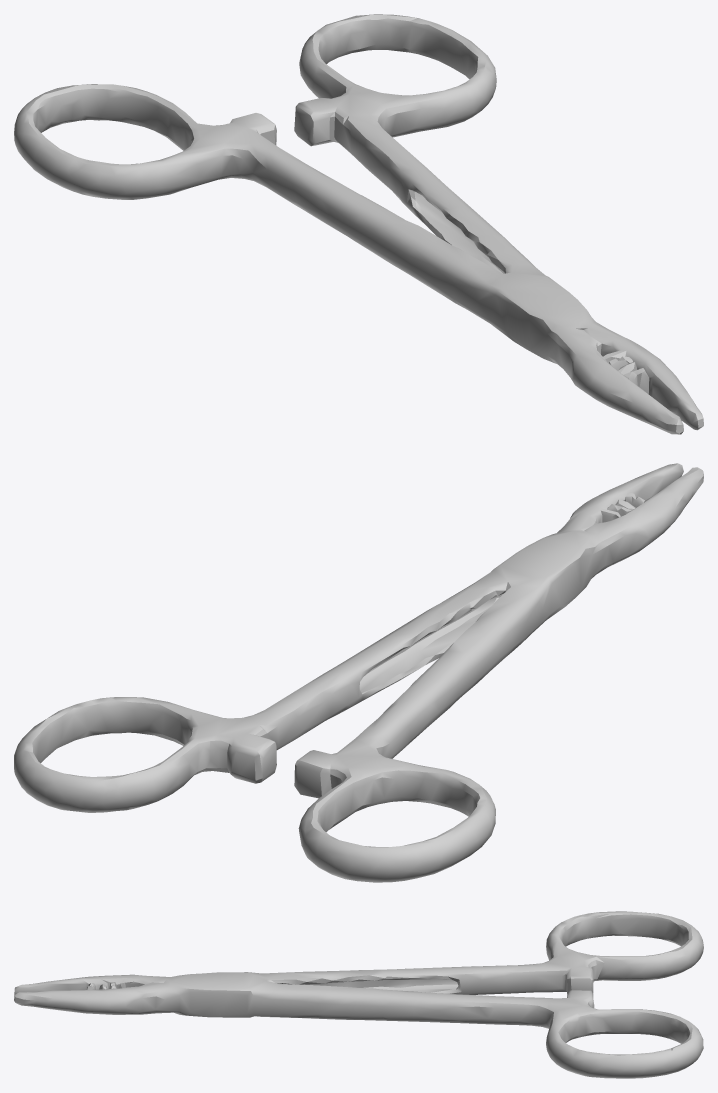
Rendered from StageNeedleDriver.glb.
3 views of the same model, one above another, from view 1: azimuth 30°, elevation 25°; view 2: azimuth 150°, elevation 25°; view 3: azimuth 270°, elevation 25° (orthographic). The views are drawn at different scales.
Parts seen in each view (by area): view 1: geometry_0; view 2: geometry_0; view 3: geometry_0.
Boxes of the visible parts, bbox=[...] form: geometry_0: bbox=[14, 14, 703, 434]; geometry_0: bbox=[14, 463, 703, 882]; geometry_0: bbox=[14, 911, 703, 1078].
Size of the model in its own units: 0.0833 by 0.00772 by 0.16.
Materials: 1 (1 with a texture image).
